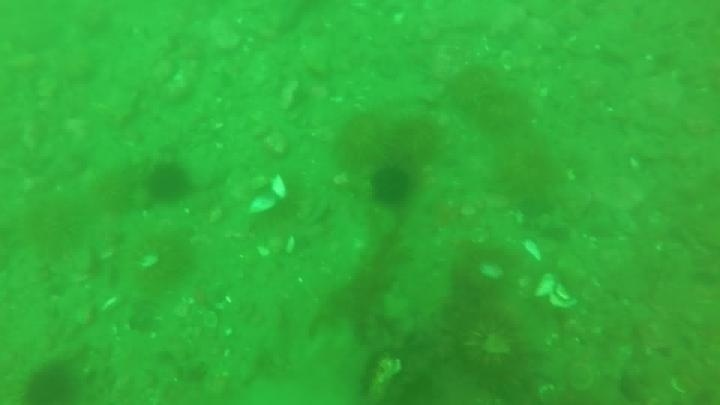echinus: (455, 309, 536, 393), (115, 226, 196, 302), (449, 242, 523, 314), (22, 362, 79, 404), (144, 161, 192, 205), (368, 164, 414, 207)
